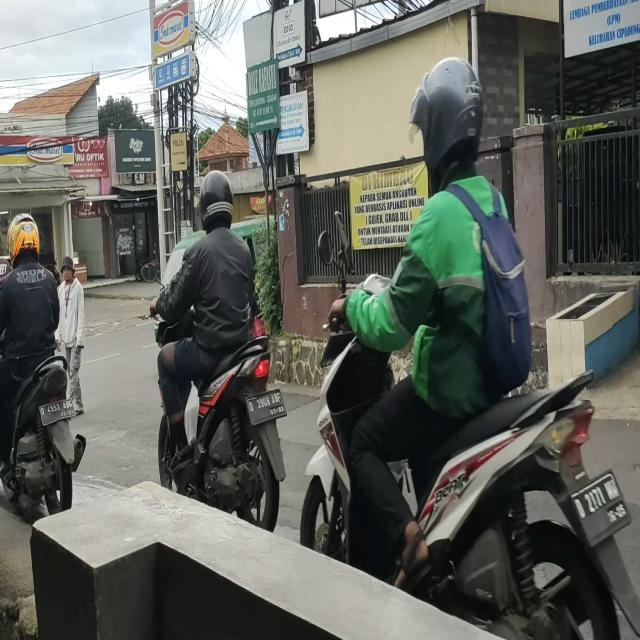helmet: (423, 59, 484, 170), (200, 171, 234, 232), (6, 211, 41, 270)
